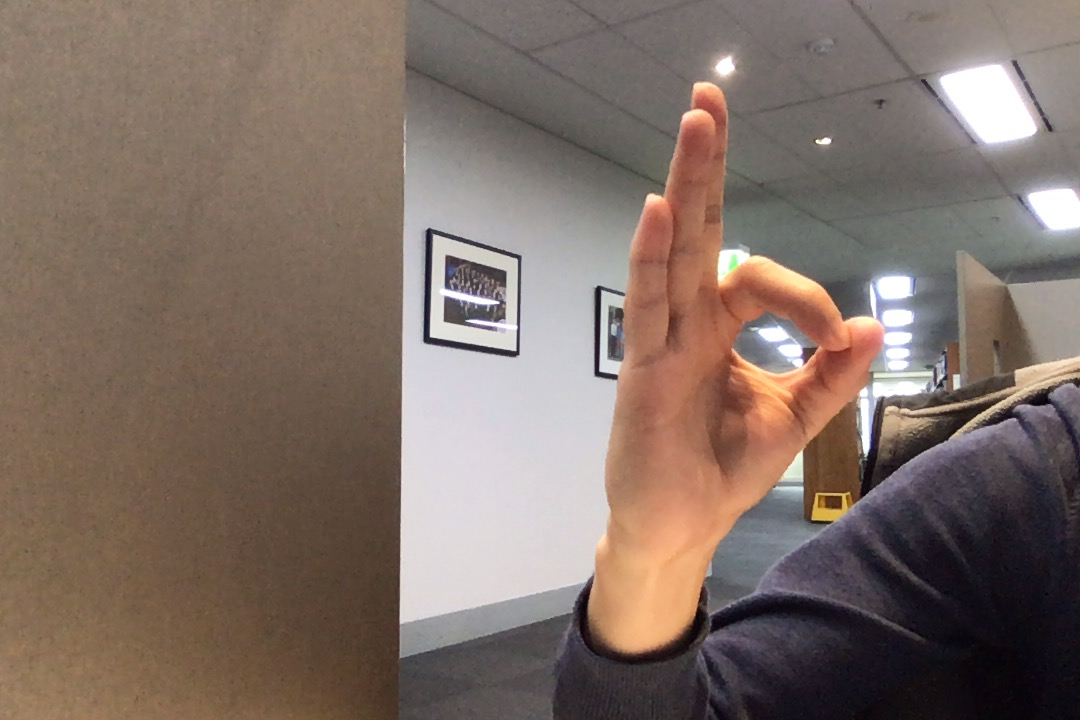oksign: (588, 71, 890, 552)
